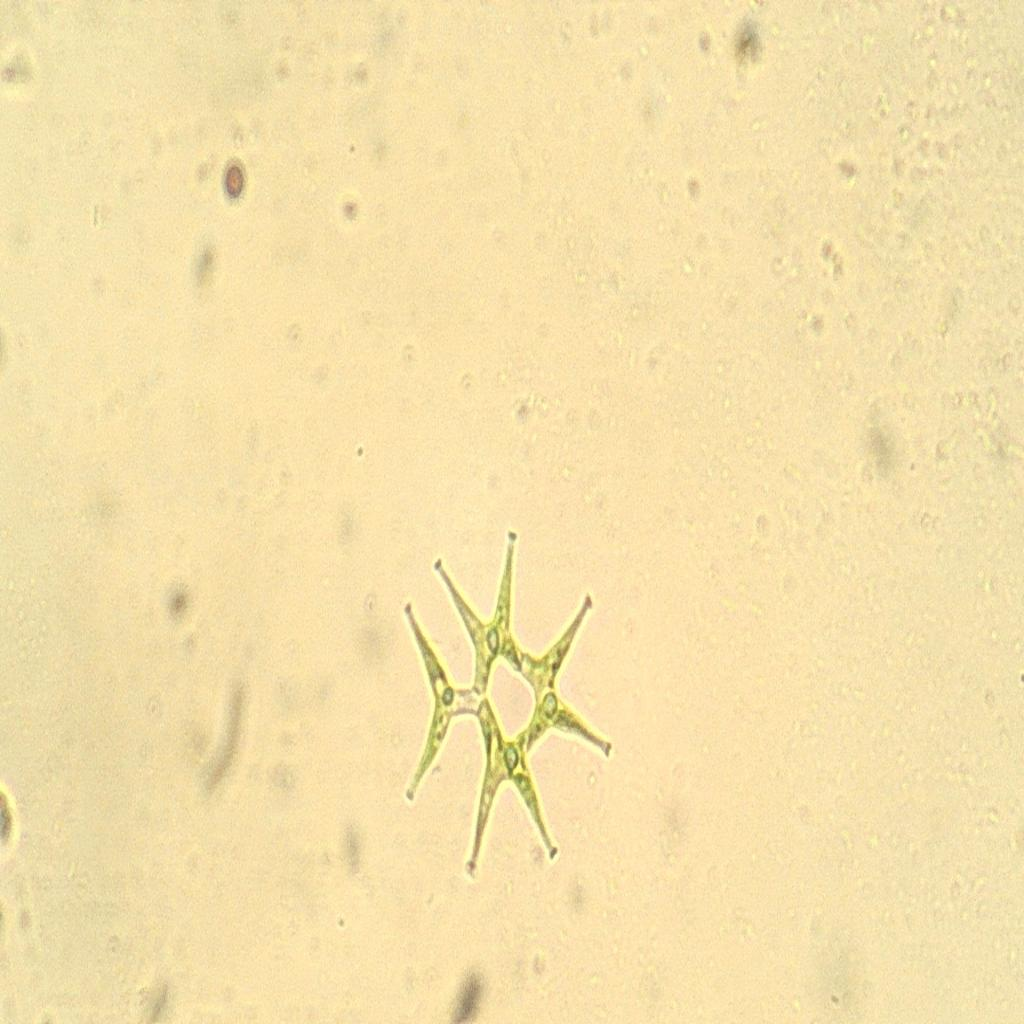Pediastrum_CT: (382, 523, 624, 895)
